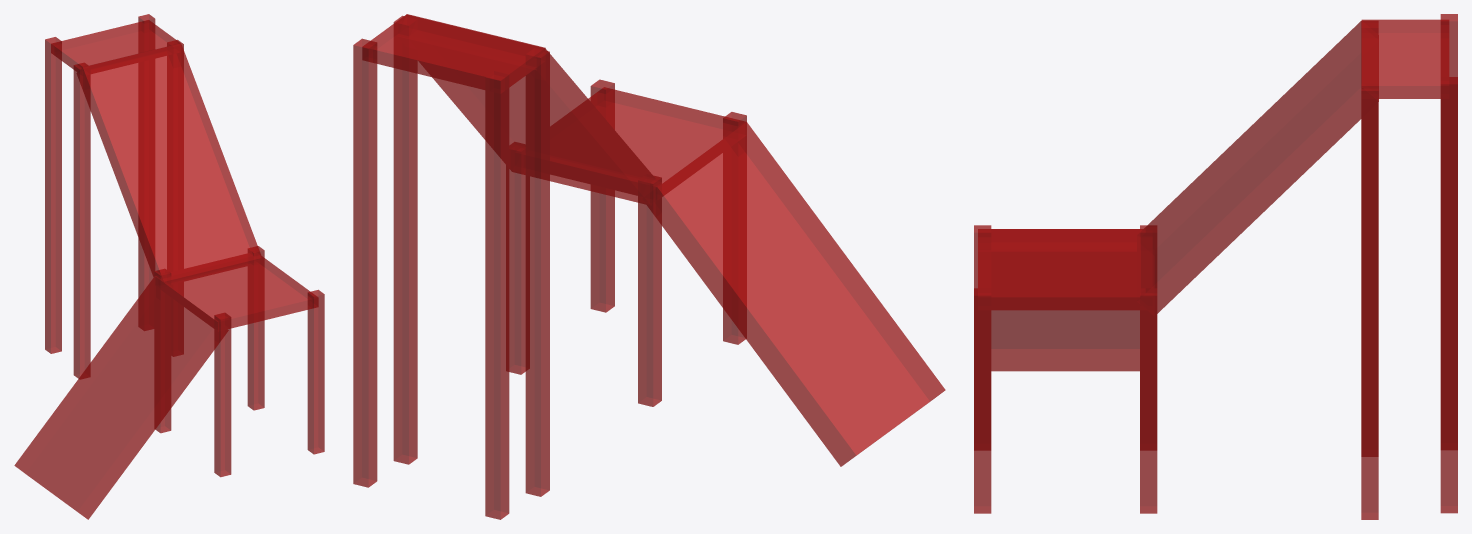
The model's file is SM_Bld_Stairs_Wood_Corner_01_Collision.fbx.
3 views of the same model, side by side, from view 1: azimuth 30°, elevation 25°; view 2: azimuth 150°, elevation 25°; view 3: azimuth 270°, elevation 25° (orthographic). The views are drawn at different scales.
Parts seen in each view (by area): view 1: SM_Bld_Stairs_Wood_Corner_01_Collision; view 2: SM_Bld_Stairs_Wood_Corner_01_Collision; view 3: SM_Bld_Stairs_Wood_Corner_01_Collision.
Part boxes in pixels (x1=…): SM_Bld_Stairs_Wood_Corner_01_Collision: x1=14, y1=14, x2=324, y2=519; SM_Bld_Stairs_Wood_Corner_01_Collision: x1=353, y1=14, x2=945, y2=519; SM_Bld_Stairs_Wood_Corner_01_Collision: x1=974, y1=14, x2=1457, y2=519.
Size of the model in its own units: 421 by 527 by 519.
